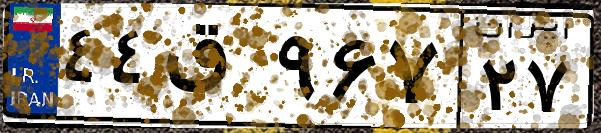2: (475, 38, 525, 113)
4: (57, 26, 110, 100), (110, 28, 158, 98)
6: (330, 28, 385, 110)
7: (385, 28, 445, 110), (525, 38, 570, 115)
9: (270, 28, 330, 110)
ق: (158, 20, 270, 120)
